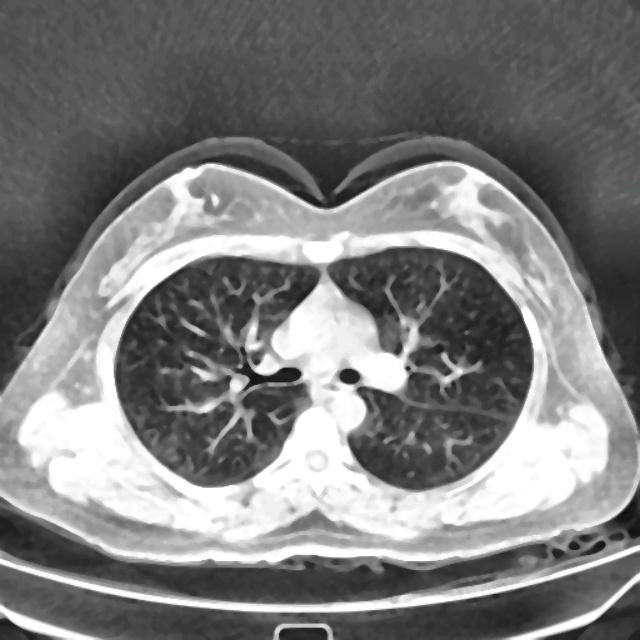covid: (2, 137, 637, 572)
